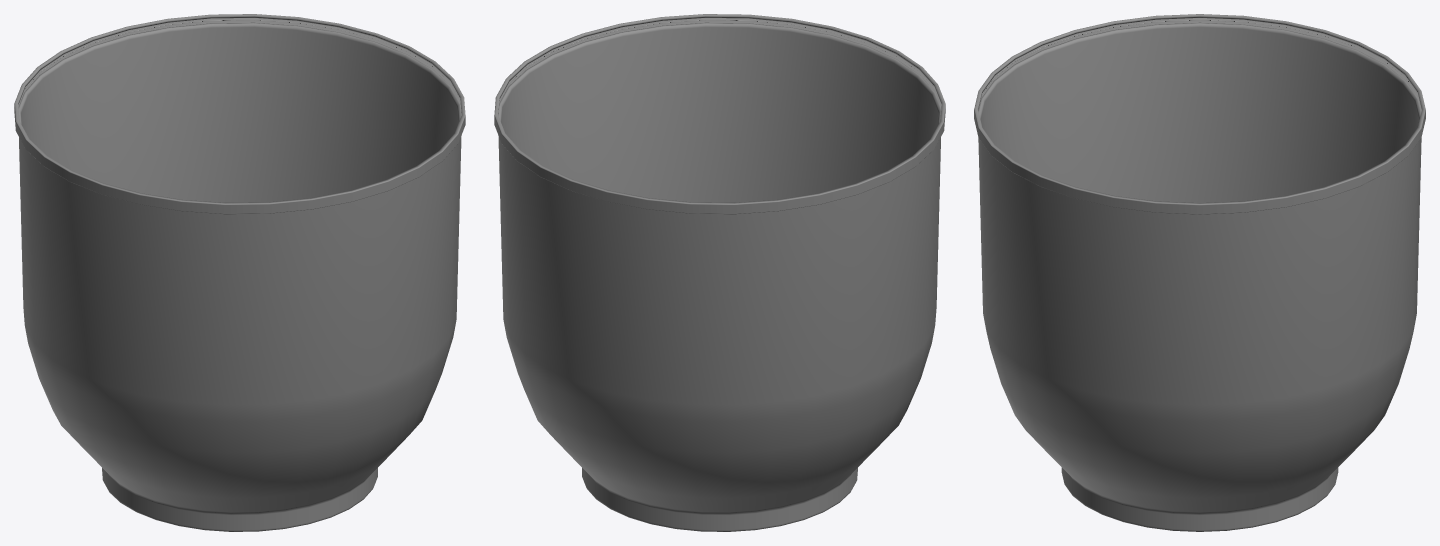
File: tempat adonan roti.fbx
The picture shows the model from 3 angles, left to right: view 1: azimuth 30°, elevation 25°; view 2: azimuth 150°, elevation 25°; view 3: azimuth 270°, elevation 25°; orthographic projection.
Visible parts, largest first — view 1: Circle; view 2: Circle; view 3: Circle.
Boxes of the visible parts, box(x1,y1,x2,y2) form: Circle: box(14, 14, 465, 531); Circle: box(494, 14, 945, 531); Circle: box(974, 14, 1425, 531).
Bounding box in the file's own units: 225 × 200 × 225.
Materials: 1 (1 with a texture image).
